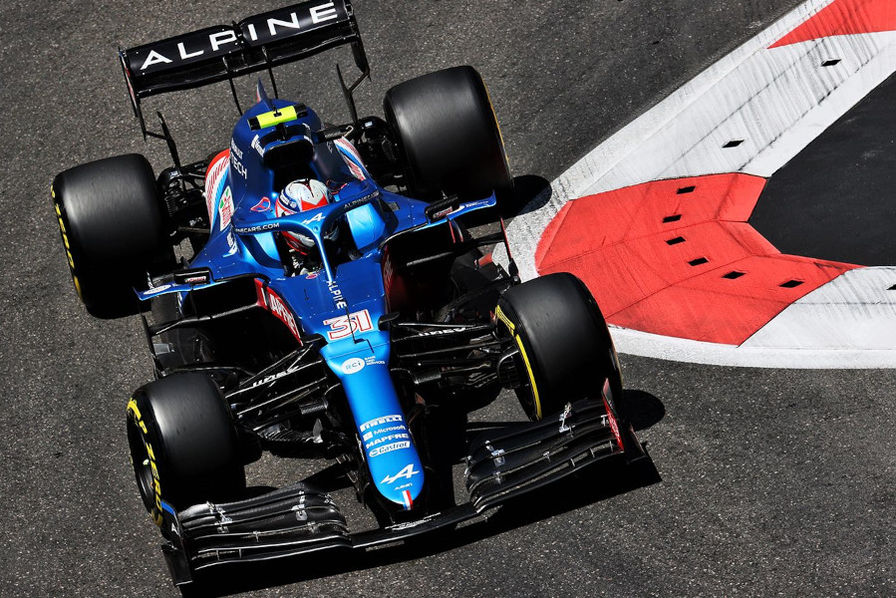Formule 1: (52, 2, 621, 577)
